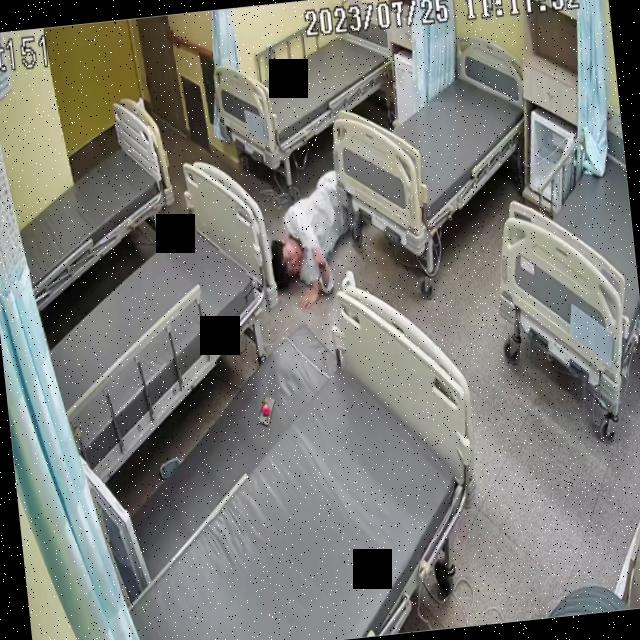bed: (97, 284, 485, 640), (27, 160, 290, 476), (485, 109, 640, 415), (321, 39, 535, 240), (5, 95, 183, 306), (213, 8, 400, 170)
fall: (255, 124, 362, 308)
patient: (254, 124, 362, 306)
